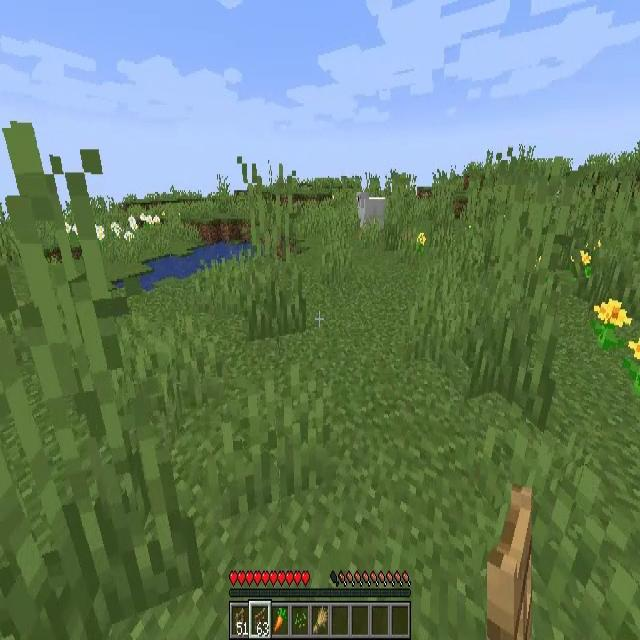flower: (594, 296, 632, 348), (627, 337, 640, 388), (572, 249, 591, 278)
sheep: (354, 188, 387, 226)
